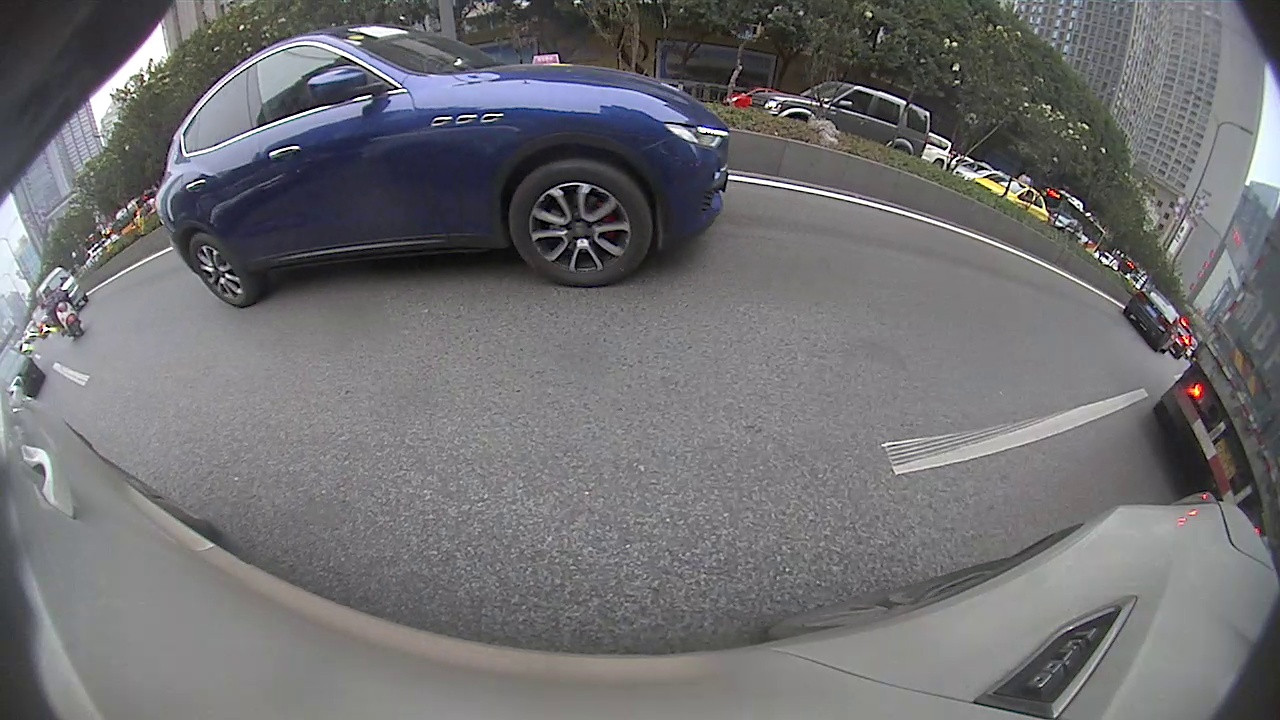car: (157, 23, 731, 311), (1125, 288, 1180, 355)
front: (512, 158, 655, 290)
rear: (190, 233, 258, 309)
